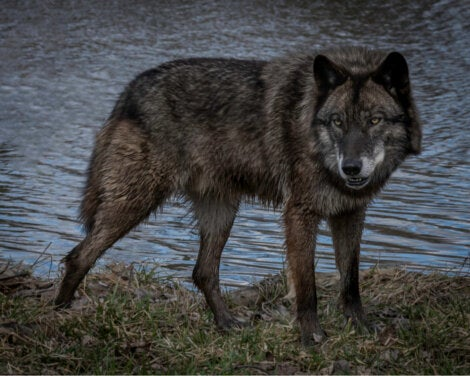Lobo: (58, 45, 412, 322)
